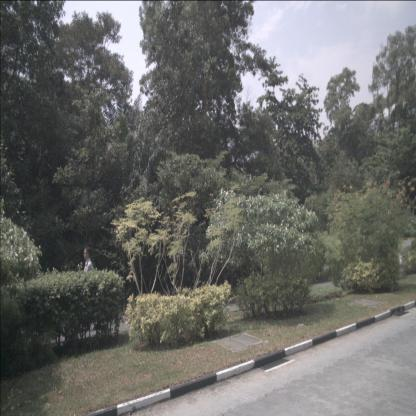human-pedestrian-adult: (80, 246, 96, 332)
